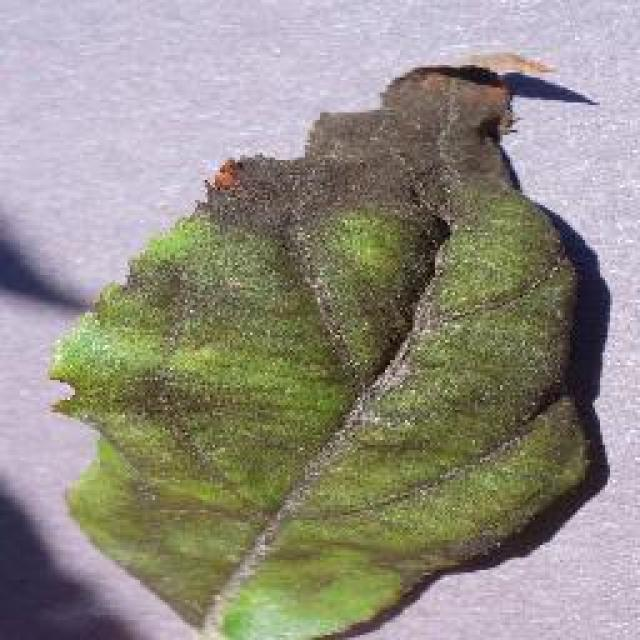apple scab disease: (45, 48, 600, 638)
